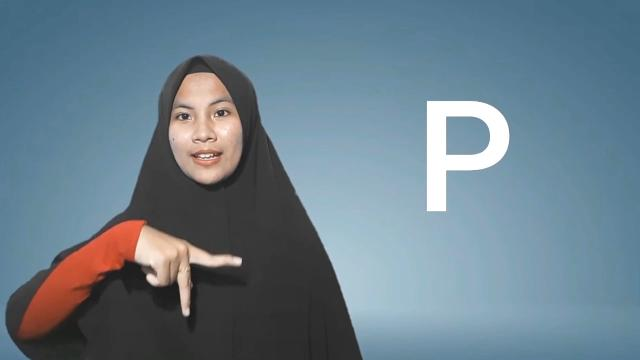P: (122, 221, 248, 319)
